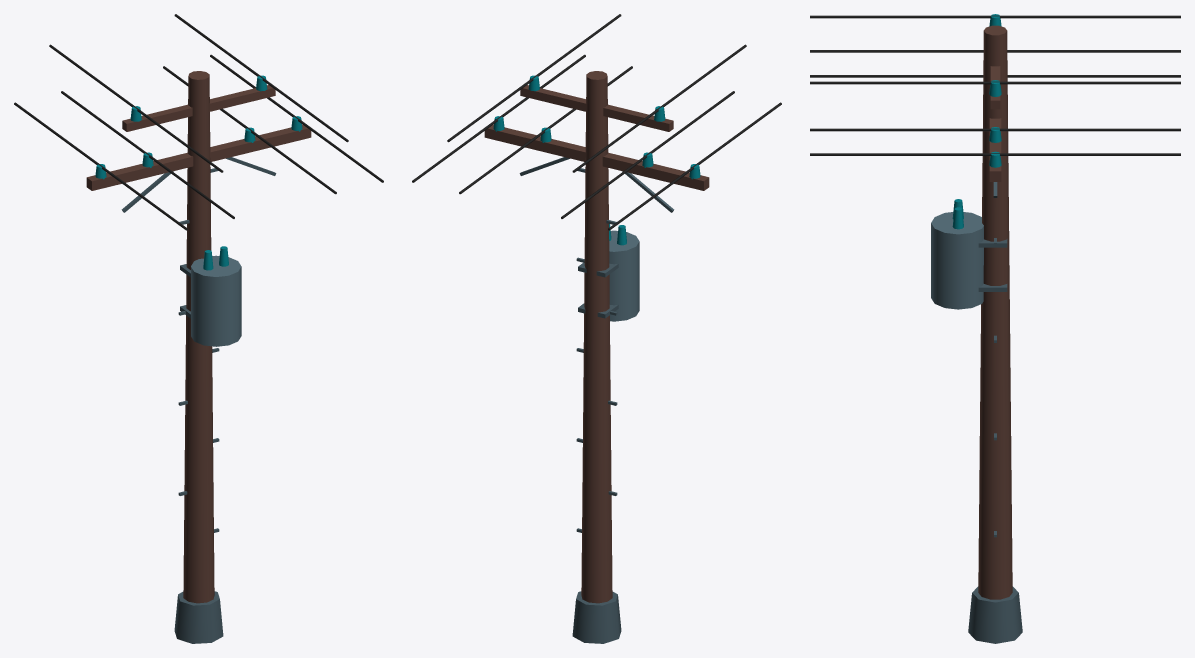
Rendered from utility-pole.glb.
3 views of the same model, side by side, from view 1: azimuth 30°, elevation 25°; view 2: azimuth 150°, elevation 25°; view 3: azimuth 270°, elevation 25° (orthographic). The views are drawn at different scales.
Parts seen in each view (by area): view 1: UtilityPole; view 2: UtilityPole; view 3: UtilityPole.
Part boxes in pixels (x1,y1,x2,y2): UtilityPole: (14,14,383,643); UtilityPole: (412,14,781,643); UtilityPole: (810,14,1180,643).
Bounding box in the file's own units: 2.8 × 6.81 × 3.8.
